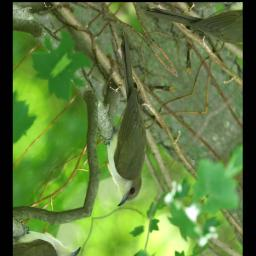Cuckoo: (45, 29, 201, 214)
